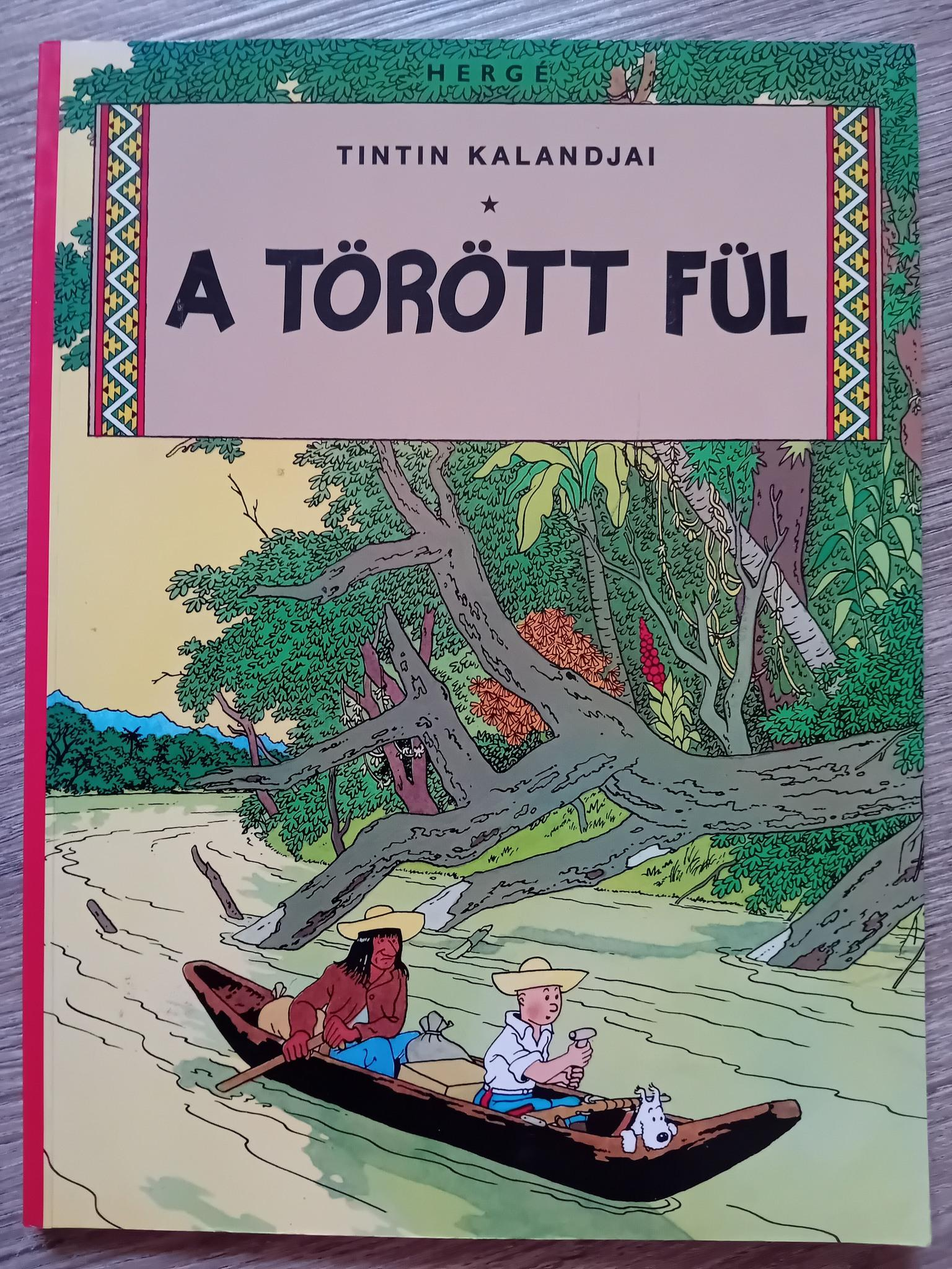comic: (22, 37, 935, 1244)
